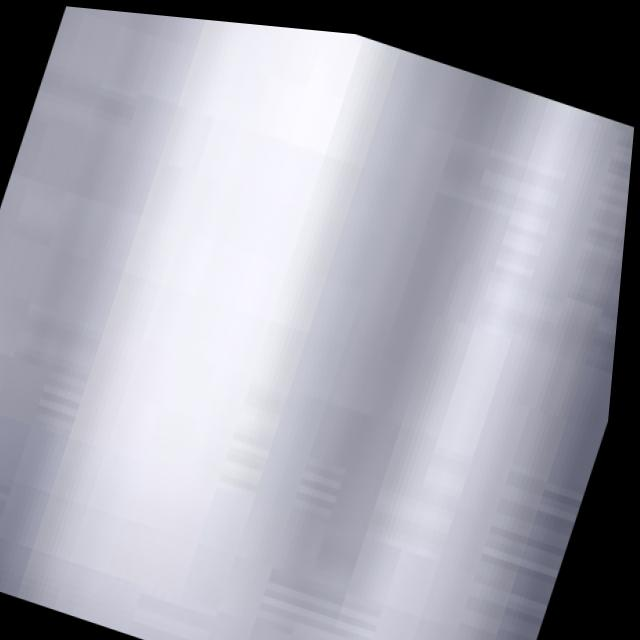metal-plates: (1, 6, 636, 640)
